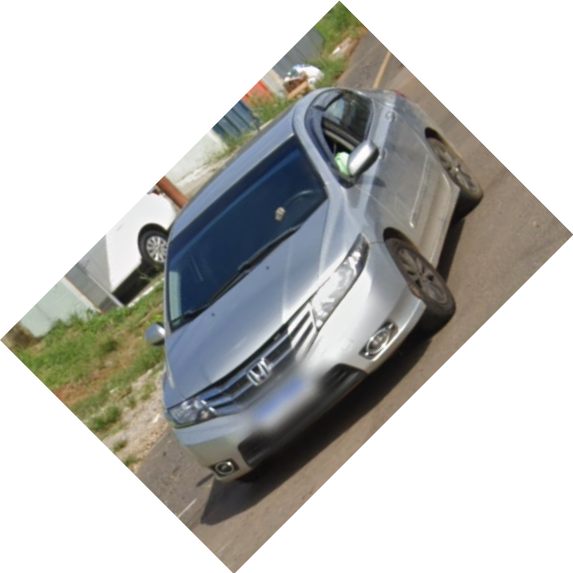car: (138, 75, 489, 500)
